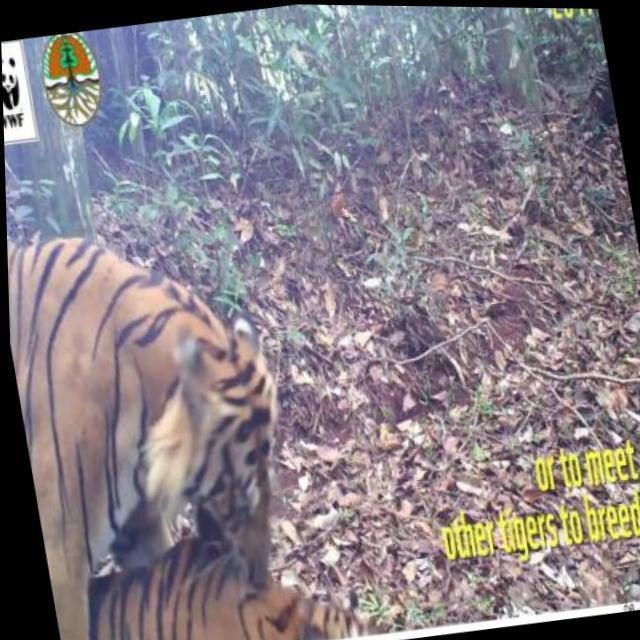tiger: (6, 233, 370, 639)
